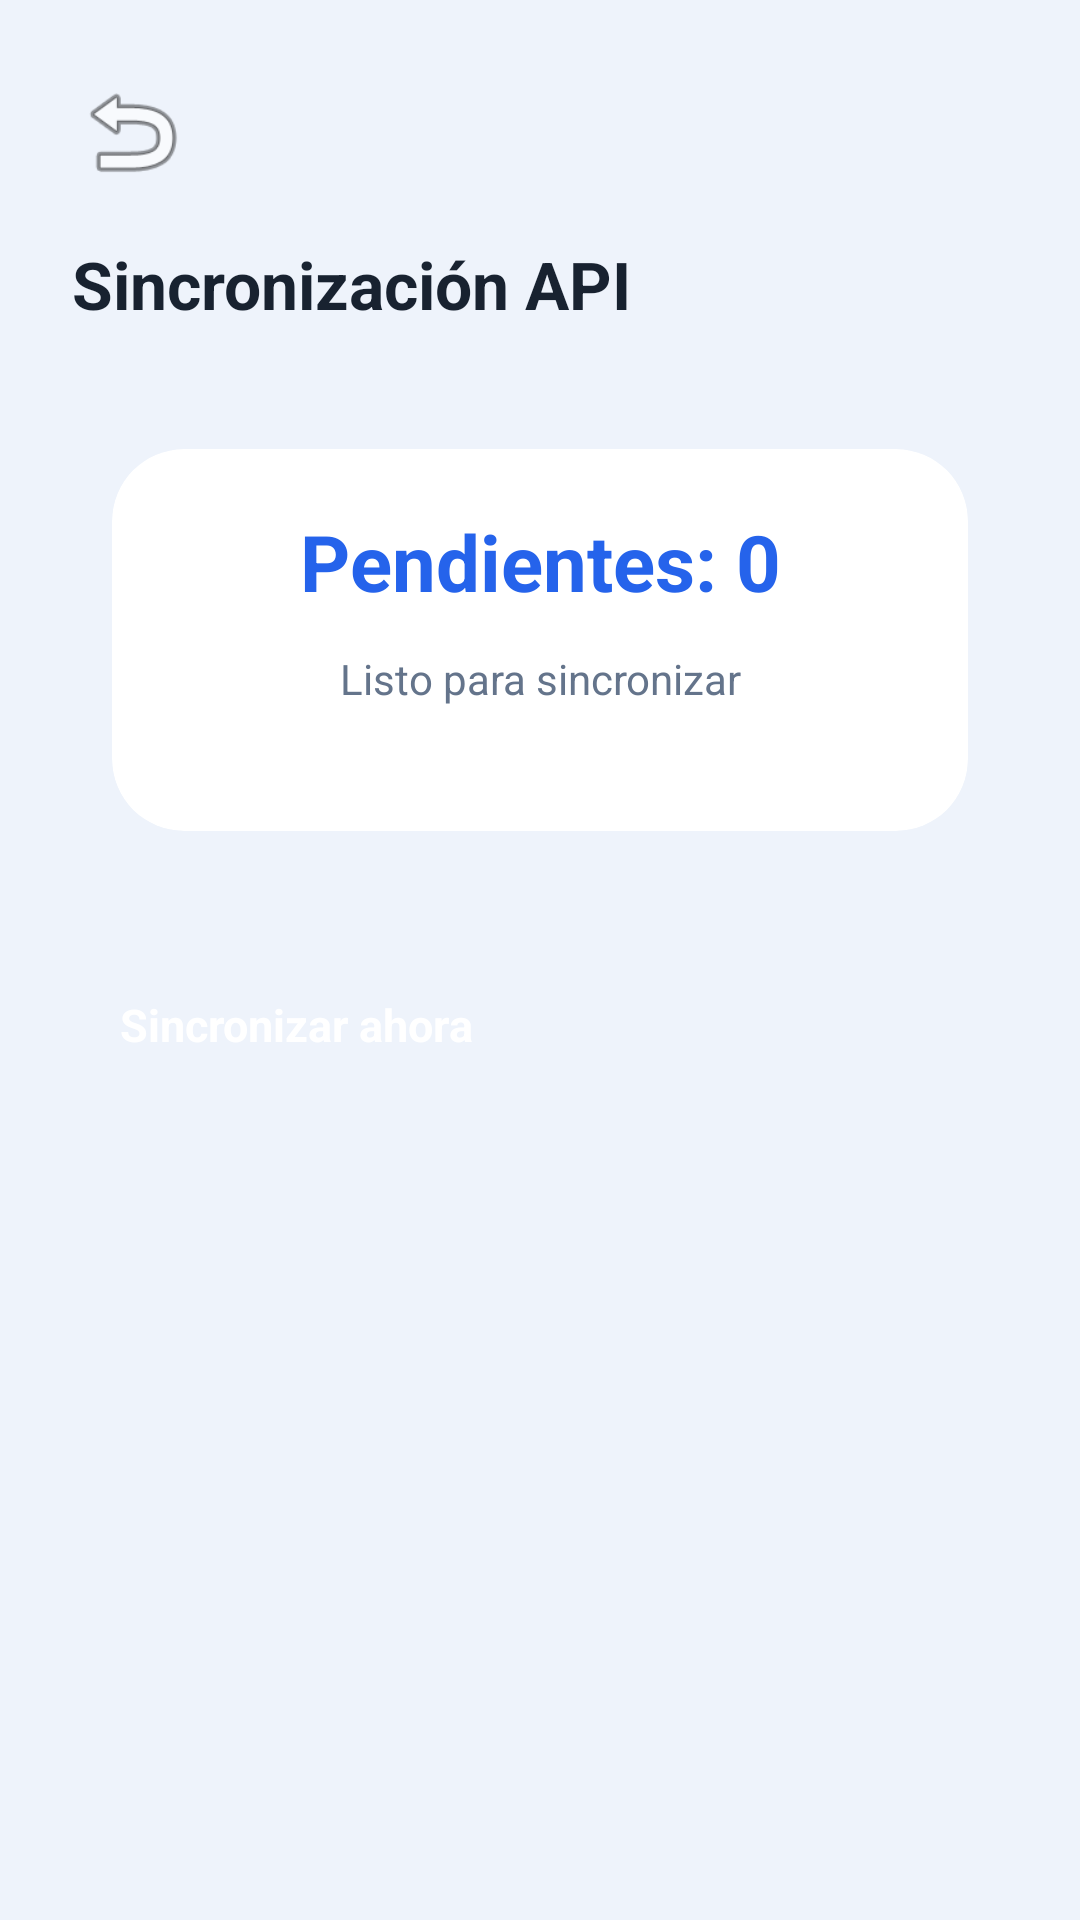

Screen size 1080 × 1920. Icon name, then its center in pixels as point (x, y):
revert: point (133, 133)
